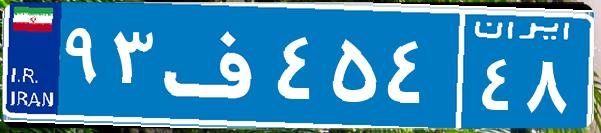3: (110, 28, 158, 105)
4: (385, 28, 445, 110), (273, 28, 330, 110), (475, 38, 525, 113)
5: (330, 28, 385, 110)
8: (525, 38, 570, 115)
9: (57, 26, 110, 107)
ف: (158, 15, 273, 115)
